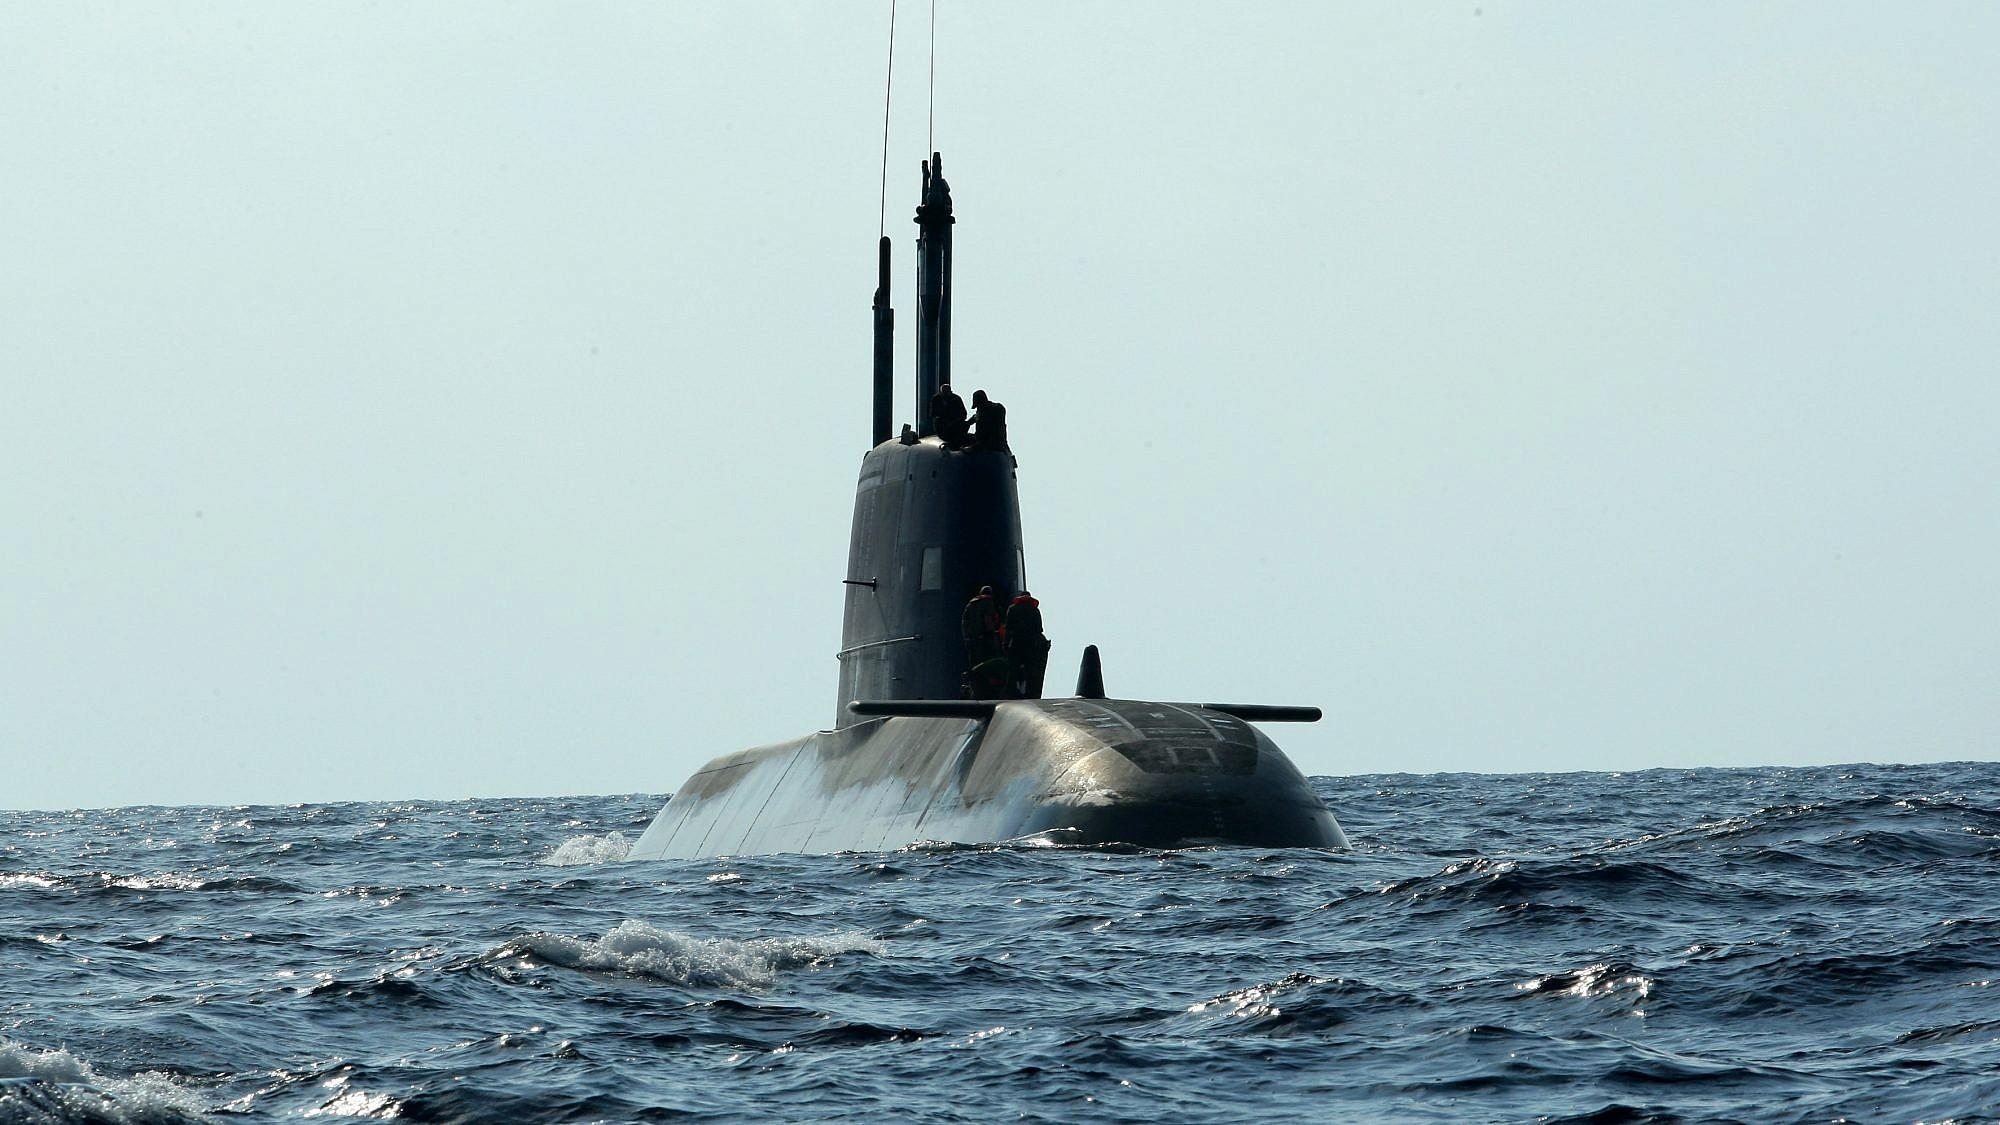Submarine: (378, 0, 1628, 1033)
